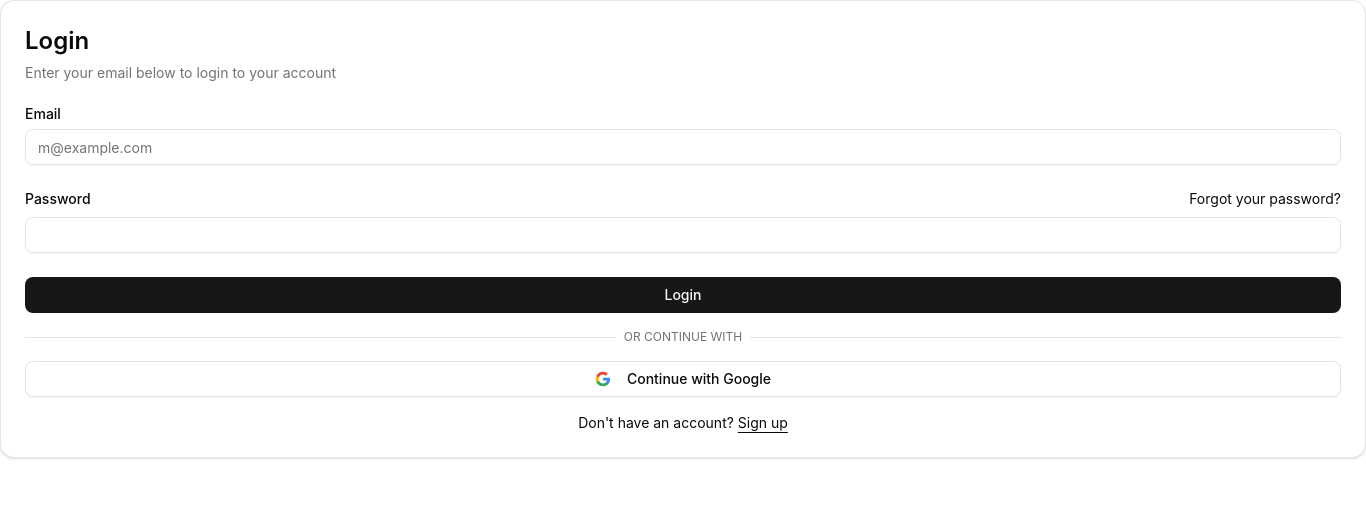
Scenario: LoginForm — real Supabase auth › NEGATIVE: Supabase rejects → generic error, no navigation, no detail leaked
Type "real@brand.com" into the field labelled "Email".
click(683, 147); type("real@brand.com")  # box [25,129,1341,165]
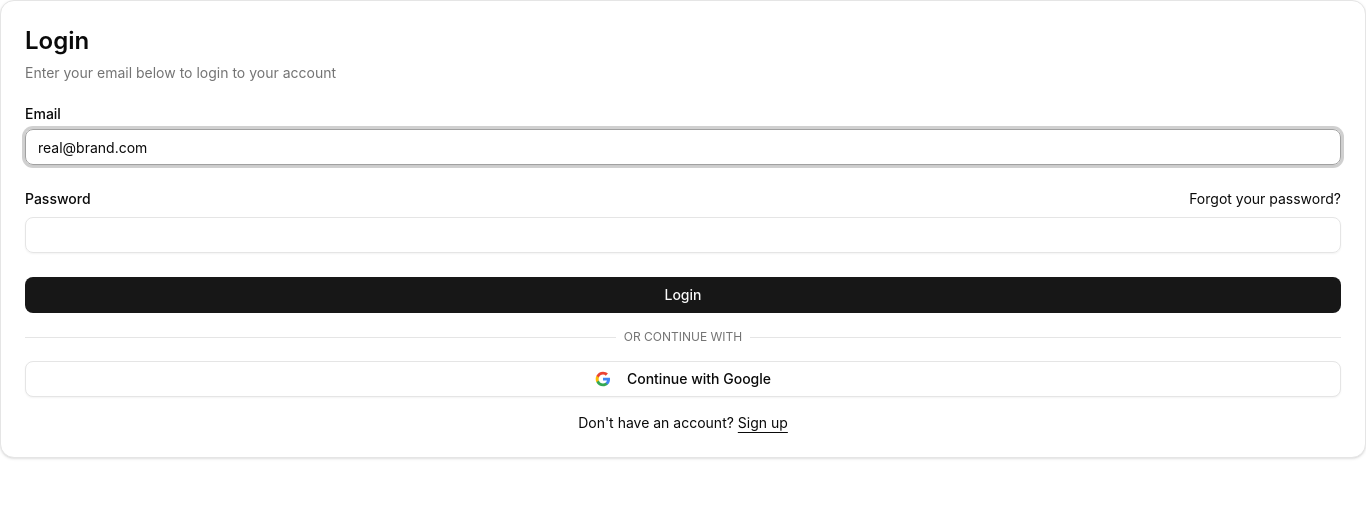
Type "wrongpass" into the password field labelled "Password".
click(683, 235); type("wrongpass")  # box [25,217,1341,253]
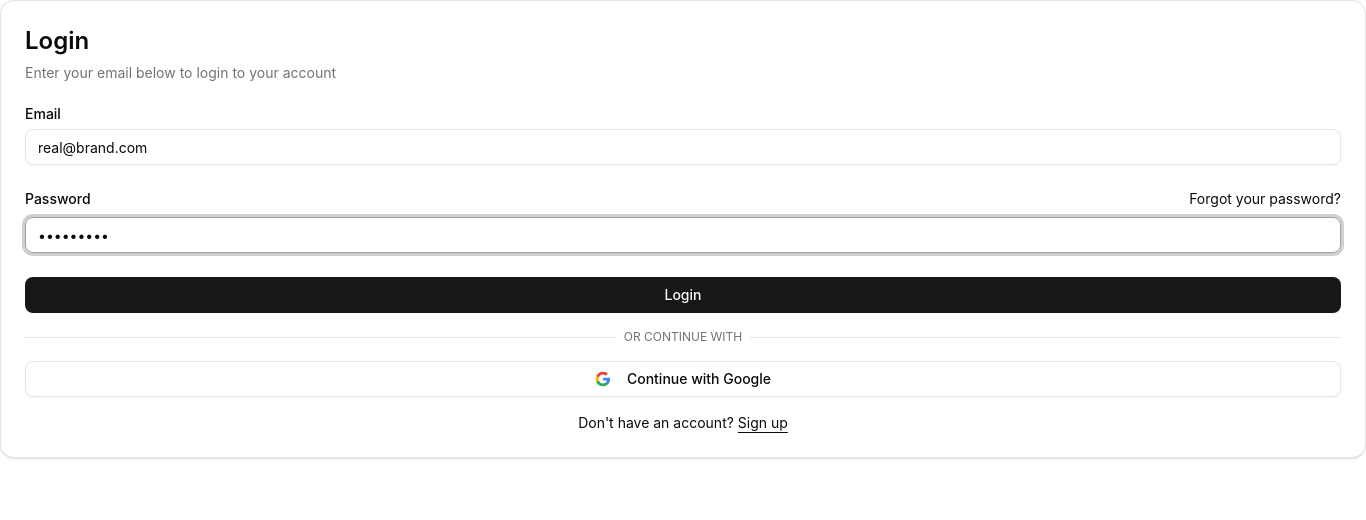
Click the button "Login".
click(683, 295)  # box [25,277,1341,313]
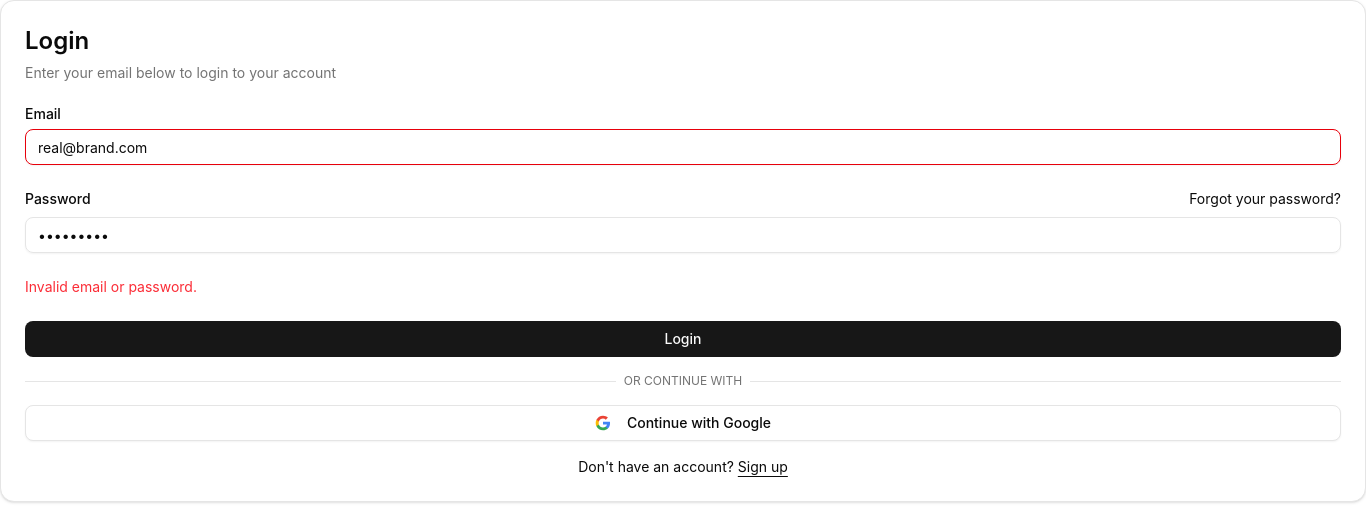
Expected: the message does not show "AuthApiError", [25,278,197,295]
Expected: the message shows "Invalid email or password", [25,278,197,295]
